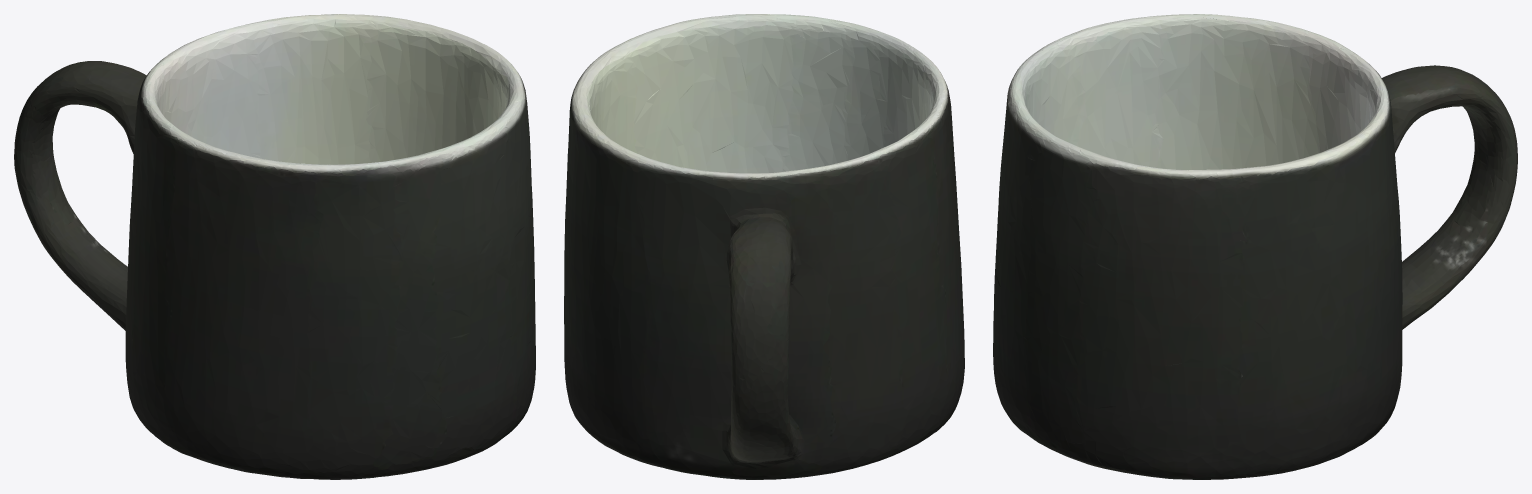
The picture shows the model from 3 angles, left to right: view 1: azimuth 30°, elevation 25°; view 2: azimuth 150°, elevation 25°; view 3: azimuth 270°, elevation 25°; orthographic projection. The views are drawn at different scales.
Visible parts, largest first — view 1: world; view 2: world; view 3: world.
Part boxes in pixels (x1,y1,x2,y2): world: (14, 14, 535, 479); world: (564, 14, 964, 479); world: (993, 14, 1517, 479).
Size of the model in its own units: 0.7719 by 0.6587 by 1.
Materials: 1 (1 with a texture image).
